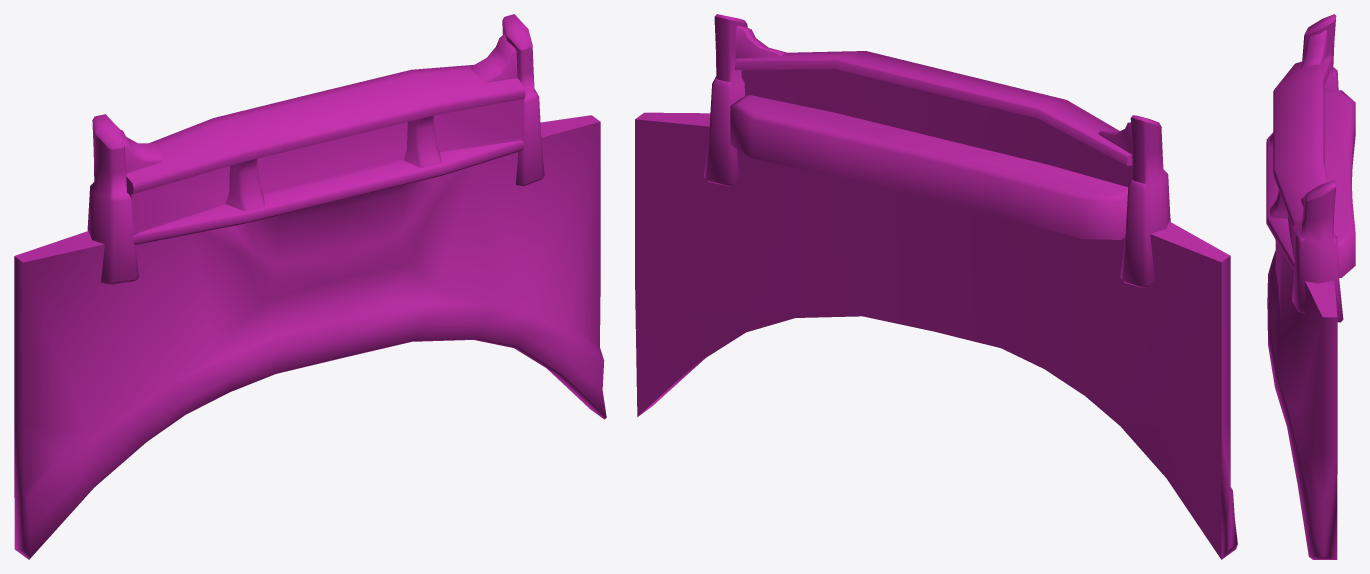
The model's file is SM_Arch_01.fbx.
The picture shows the model from 3 angles, left to right: view 1: azimuth 30°, elevation 25°; view 2: azimuth 150°, elevation 25°; view 3: azimuth 270°, elevation 25°; orthographic projection. The views are drawn at different scales.
Parts seen in each view (by area): view 1: SM_Arch; view 2: SM_Arch; view 3: SM_Arch.
Boxes of the visible parts, x1,y1,x2,y2 form: SM_Arch: [14, 14, 606, 559]; SM_Arch: [635, 14, 1237, 559]; SM_Arch: [1266, 14, 1355, 559].
Bounding box in the file's own units: 660 × 453 × 107.
